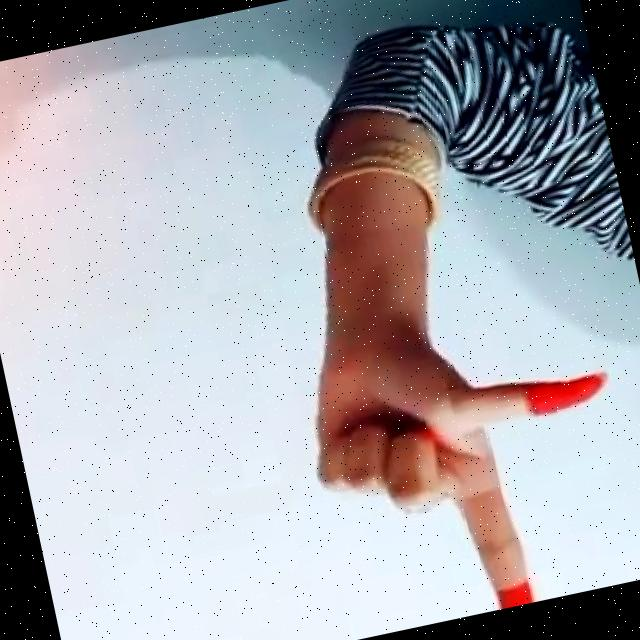Chandrakala: (258, 299, 640, 640)
bangle: (279, 110, 472, 267)
